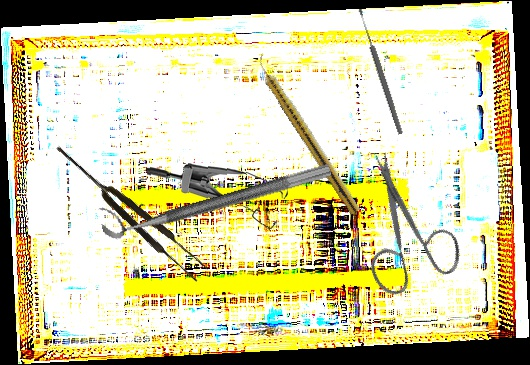Fixation Ring: (96, 143, 333, 243)
Handpiece: (250, 52, 365, 217)
Iris Scissors: (314, 146, 489, 318)
Speculum: (146, 158, 290, 236)
Surgical Spoon: (356, 8, 405, 135)
Tissue Forceps: (49, 137, 211, 285)
